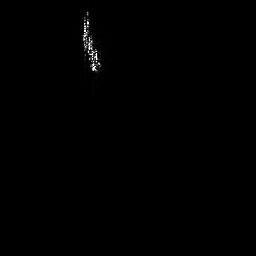ship: (82, 8, 101, 73)
